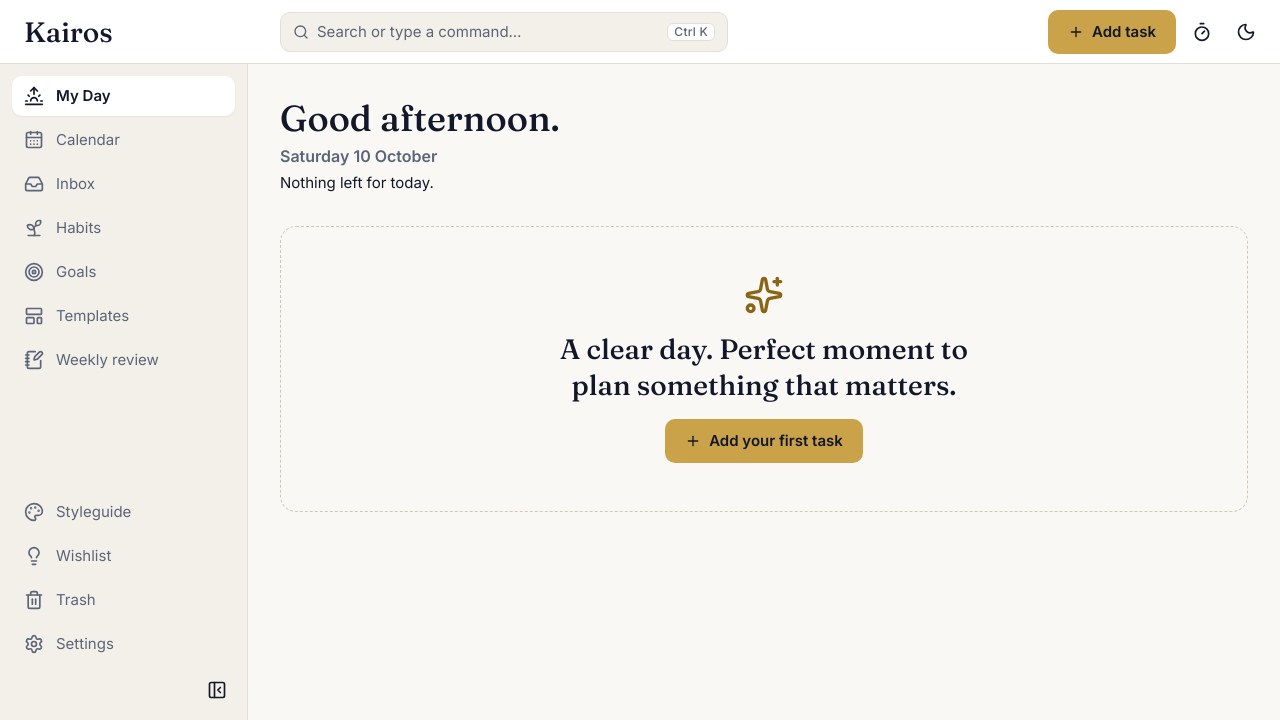
it: App shell › collapses the sidebar but keeps every link's name
Click the button named "Collapse sidebar" at (217, 690), box [199,672,235,708]
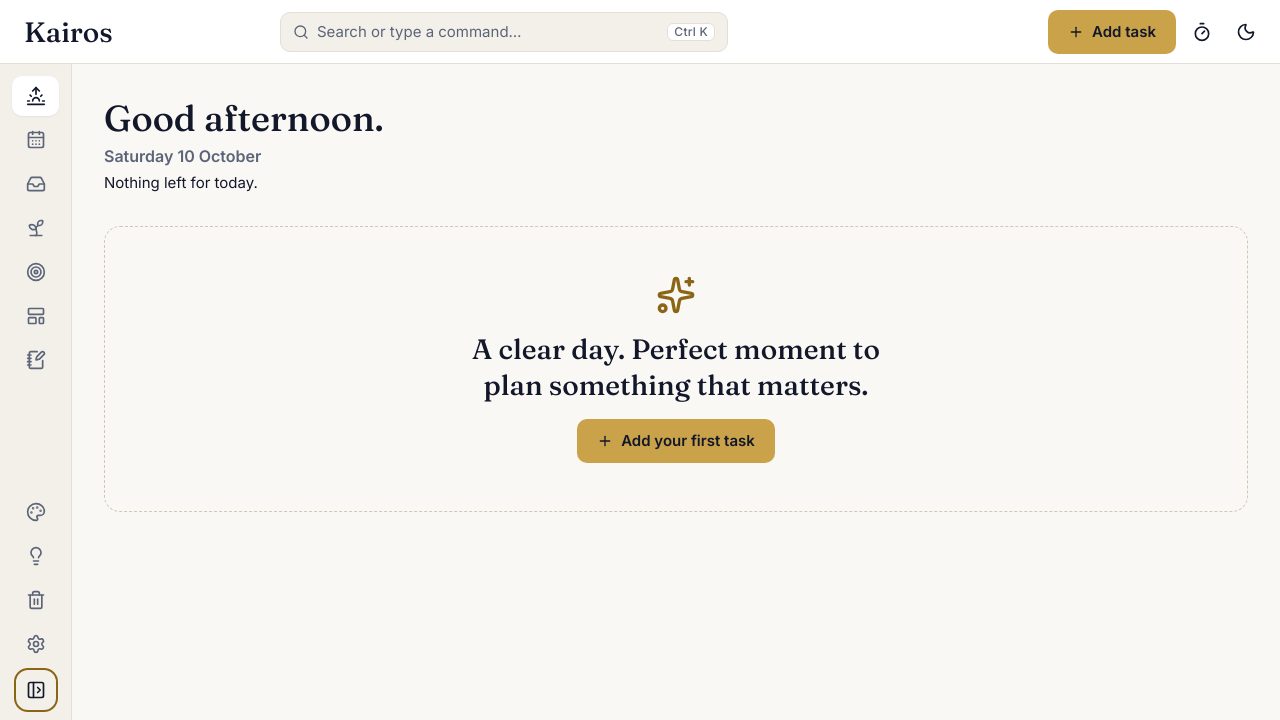
Expected: the 3rd link named "Inbox" is shown, [12,164,59,204]
Now the button named "Expand sidebar" is collapsed
Click the button named "Expand sidebar" at (36, 690), box [18,672,54,708]
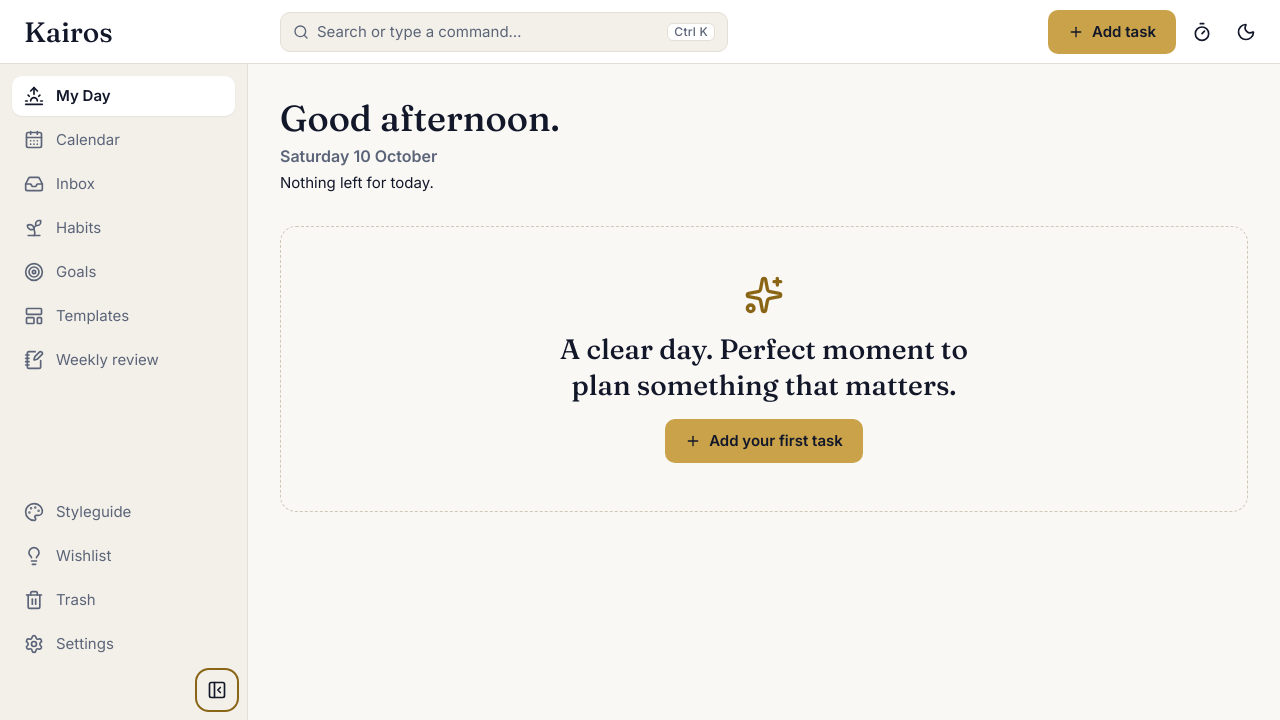
Now the button named "Collapse sidebar" is shown, box [199,672,235,708]
